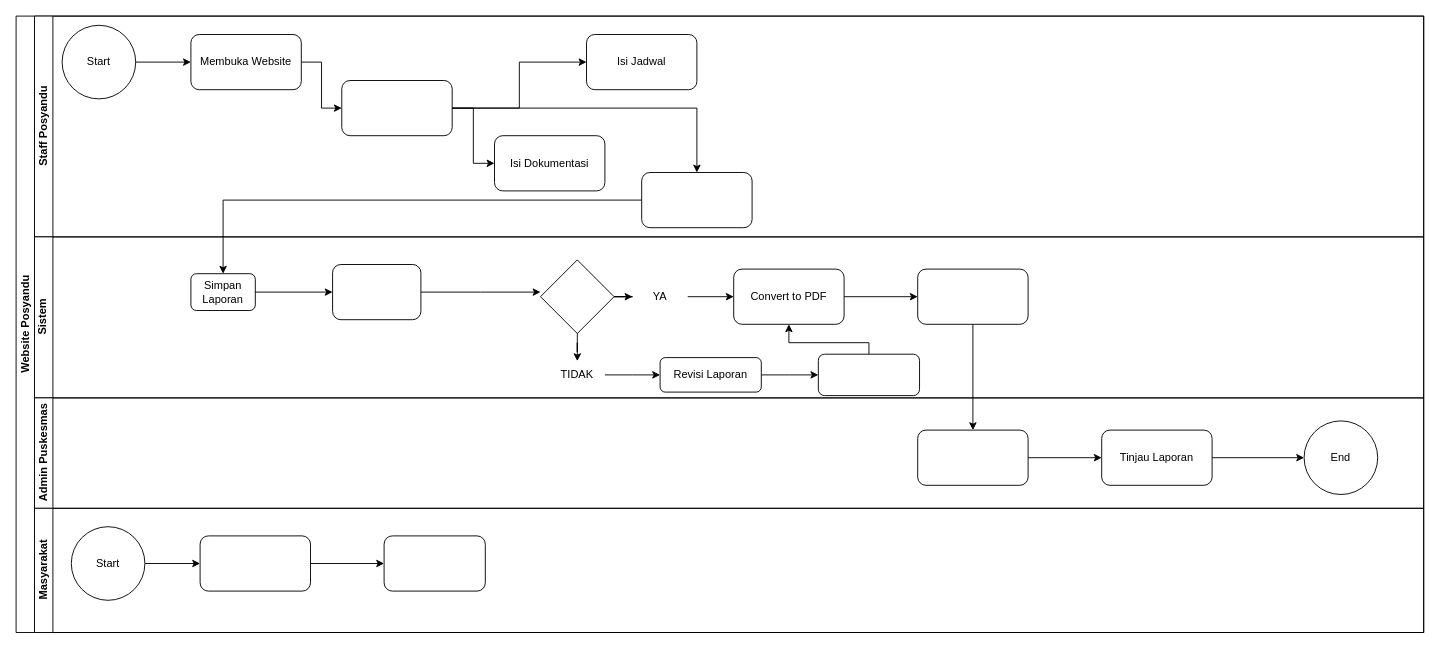
The diagram is 1440 pixels wide and 649 high, and some of its shapes have lost their labels. Here are the shapes that lost their labels. From the top down, the centre of each, then its label:
[396,108]: Login
[696,200]: Isi Laporan
[376,292]: Periksa Kelengkapan Laporan
[972,296]: Kirim Laporan ke Admin
[868,374]: ACT Isi Laporan
[972,457]: Terima Laporan
[254,563]: Membuaka Website
[434,563]: Akses Informasi
